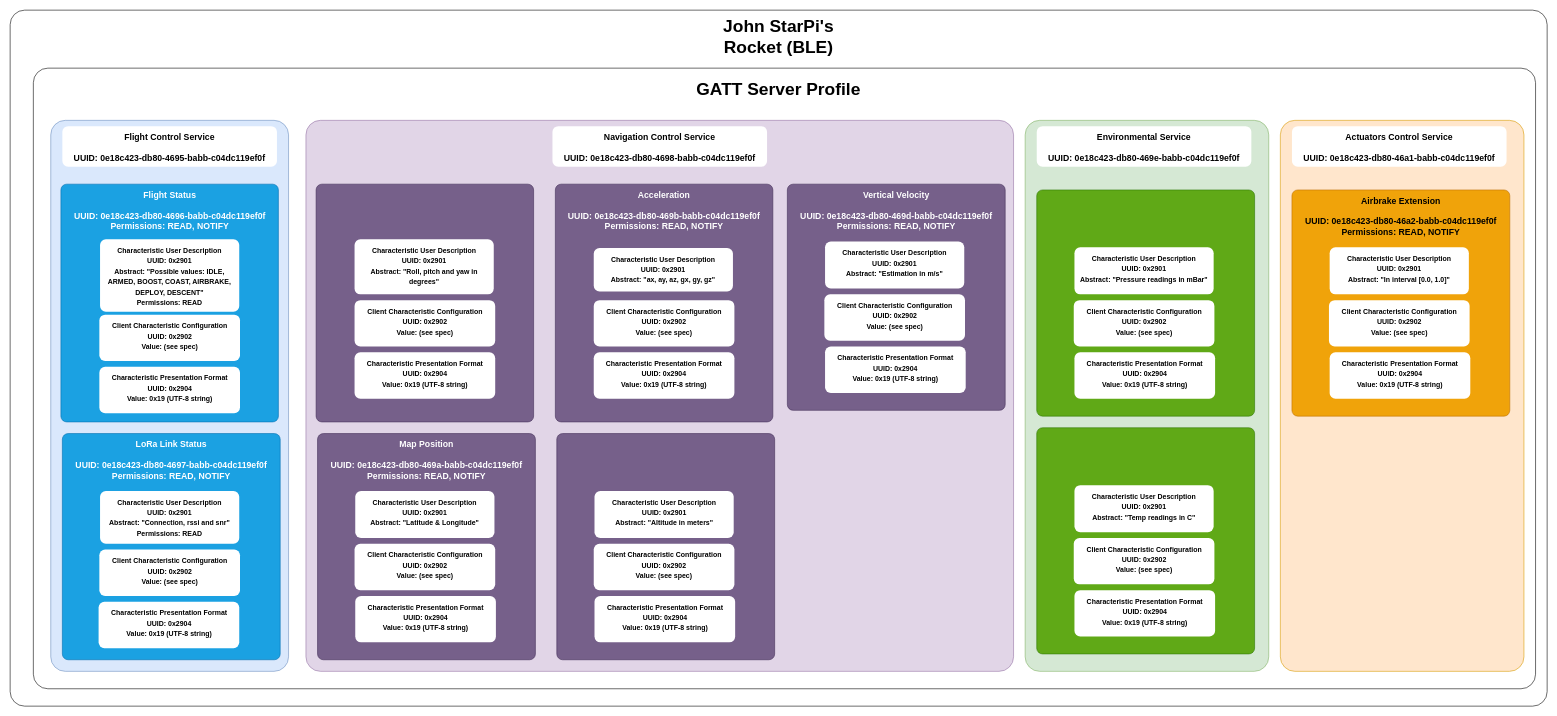
Image size: 1557x716. Some labels were removed from this diagram. Each missing label, with the box of its shape:
Altitude UUID: 0e18c423-db80-469c-babb-c04dc119ef0f Permissions: READ, NOTIFY: (556, 433, 775, 660)
Attitude UUID: 0e18c423-db80-4699-babb-c04dc119ef0f Permissions: READ, NOTIFY: (316, 184, 534, 422)
Pressure UUID: 0e18c423-db80-469f-babb-c04dc119ef0f Permissions: READ, NOTIFY: (1036, 189, 1255, 416)
Temperature UUID: 0e18c423-db80-46a0-babb-c04dc119ef0f Permissions: READ, NOTIFY: (1036, 427, 1255, 654)
